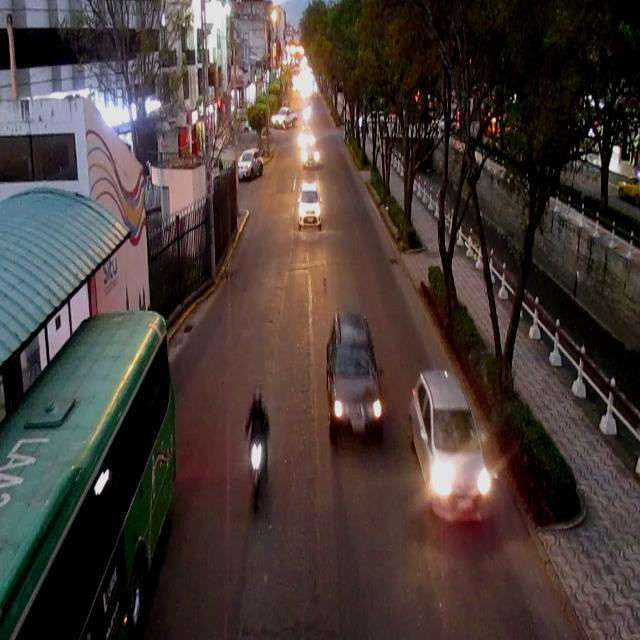BUS: (0, 306, 173, 635)
MOTORCYCLE: (248, 432, 270, 514)
SUV: (409, 367, 491, 523), (327, 310, 385, 438), (239, 152, 263, 181)
